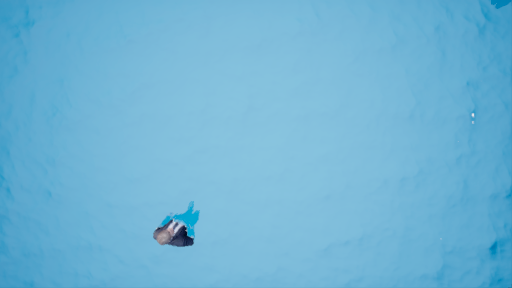person: (153, 197, 204, 249)
